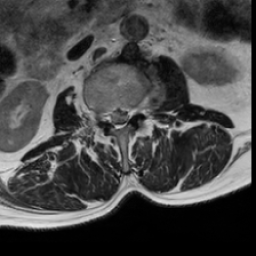CCS_normal: (115, 98, 123, 136)
LFS_normal: (131, 95, 139, 123)
LLS_normal: (123, 98, 131, 131)
RFS_normal: (97, 99, 106, 130)
RLS_normal: (106, 99, 115, 131)
